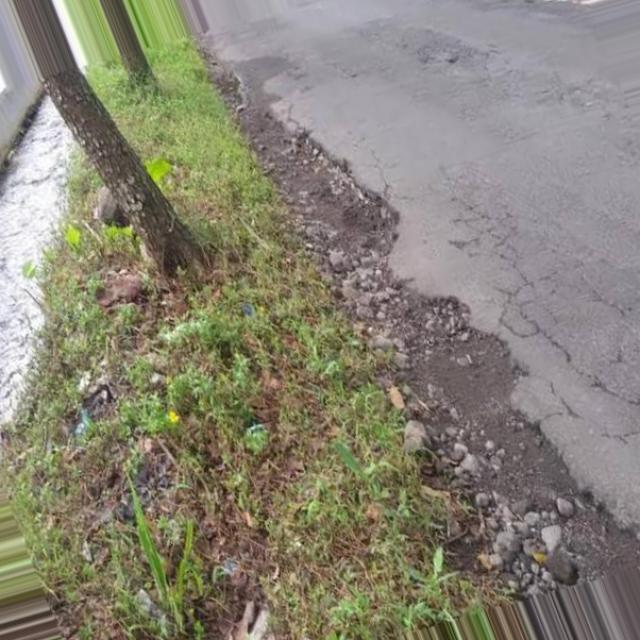Pinggir: (203, 74, 640, 604)
